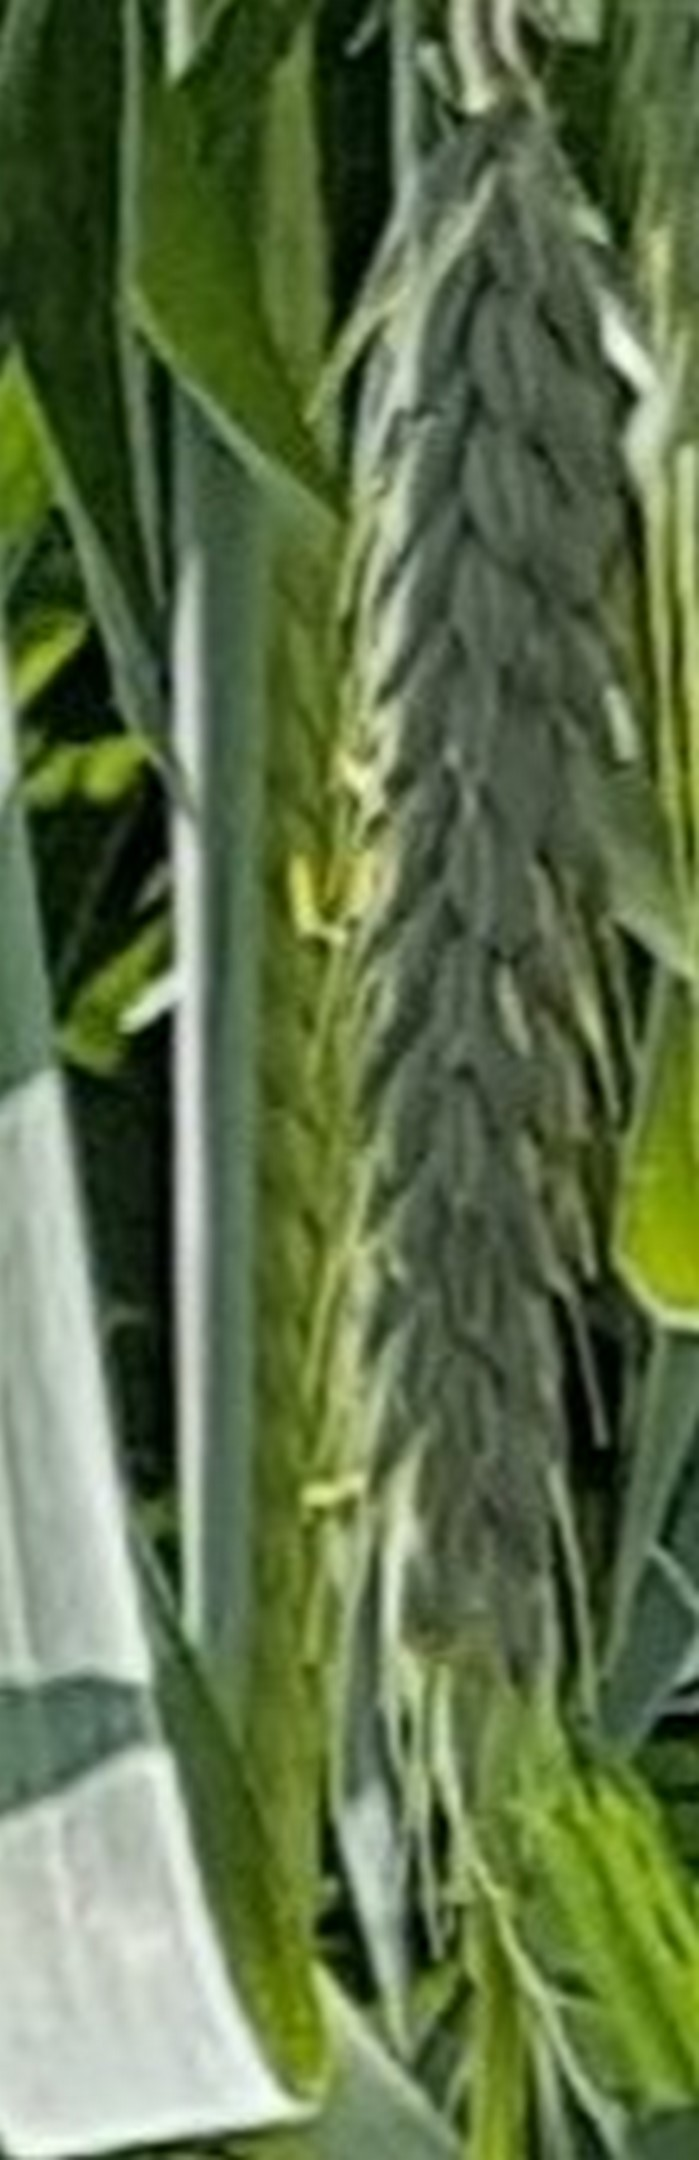Healthy Wheat: (354, 103, 678, 1789)
